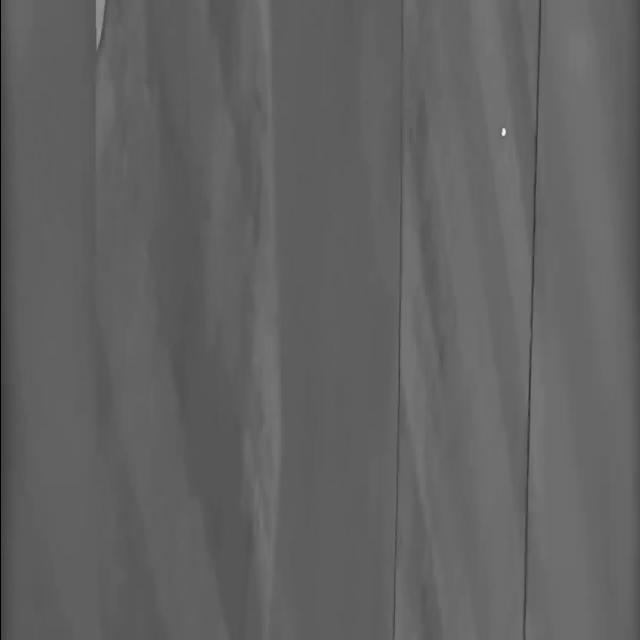baseball: (500, 126, 506, 136)
